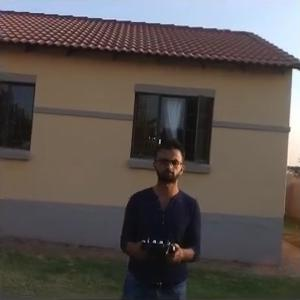follow: (111, 128, 200, 298)
